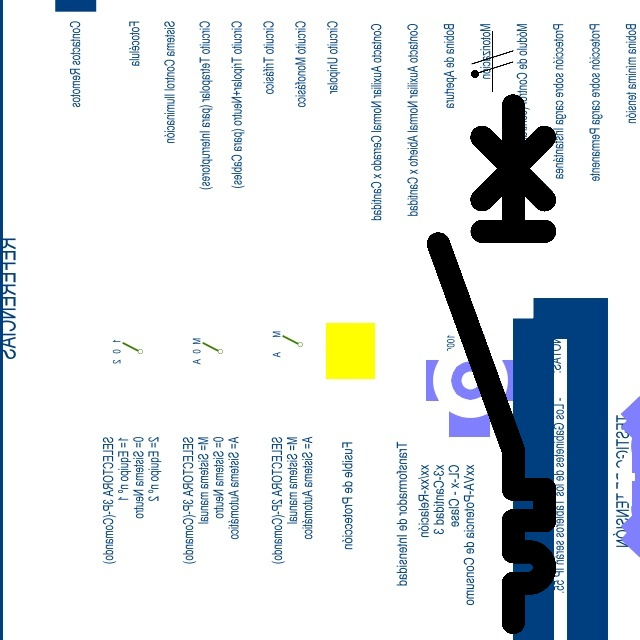interruptor_termomagnetico: (425, 92, 558, 636)
